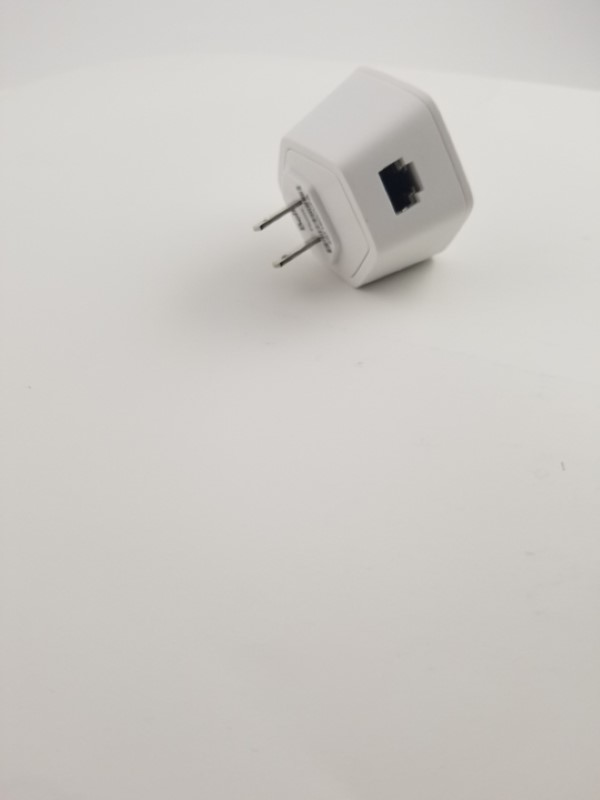pod: (248, 59, 483, 303)
